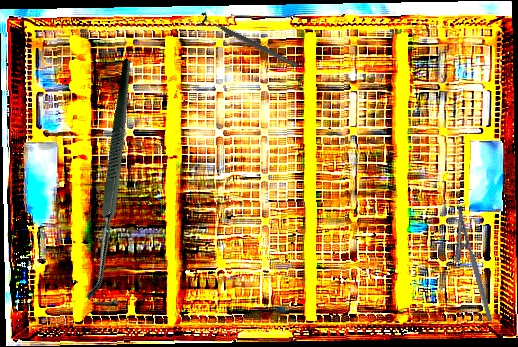Fixation Ring: (195, 10, 301, 74)
Hook Surgical: (0, 58, 237, 315)
Needle Holder: (440, 204, 494, 326)
